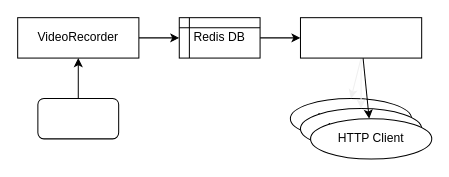
The diagram is 449 pixels wide and 177 high, and some of its shapes have lost their labels. Here are the shapes that lost their labels. From the top down, the box of each, then its label:
(299, 17, 422, 58): HTTPServer
(37, 97, 119, 139): WebCamera
